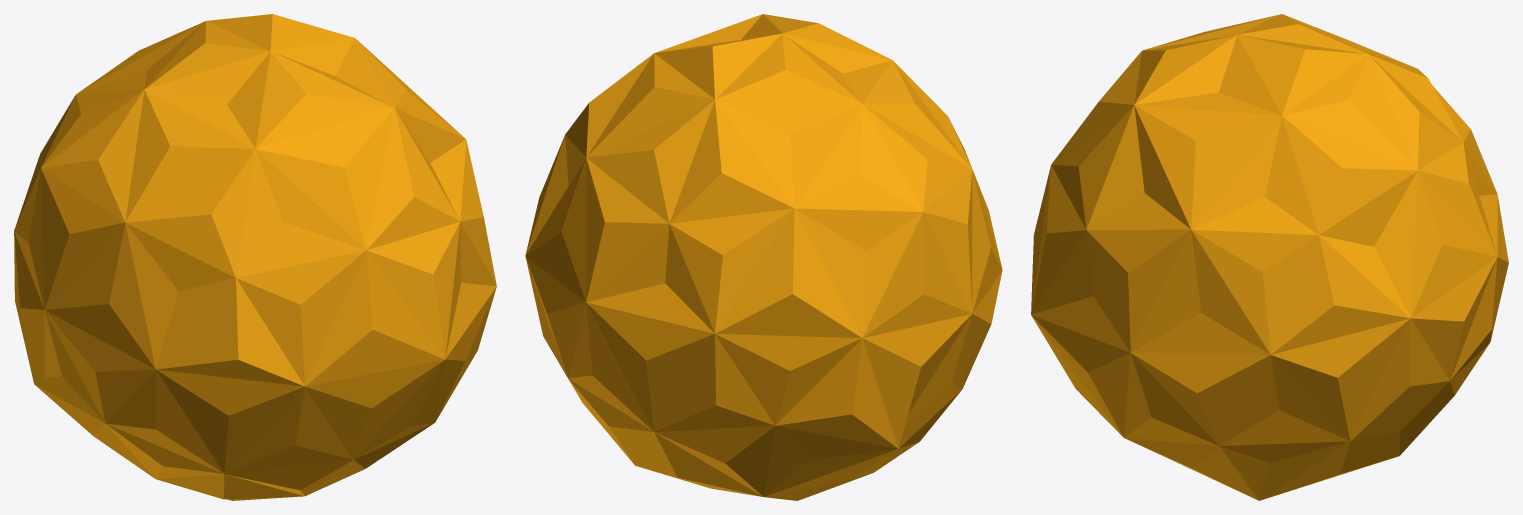
File: fullmoon.FBX
3 renders of one model, left to right at view 1: azimuth 30°, elevation 25°; view 2: azimuth 150°, elevation 25°; view 3: azimuth 270°, elevation 25°, orthographic.
Visible parts, largest first — view 1: Hedra001; view 2: Hedra001; view 3: Hedra001.
Boxes of the visible parts, <box> form: Hedra001: <box>14,14,496,500</box>; Hedra001: <box>525,14,1002,500</box>; Hedra001: <box>1031,14,1508,500</box>.
Bounding box in the file's own units: 239 × 238 × 242.
